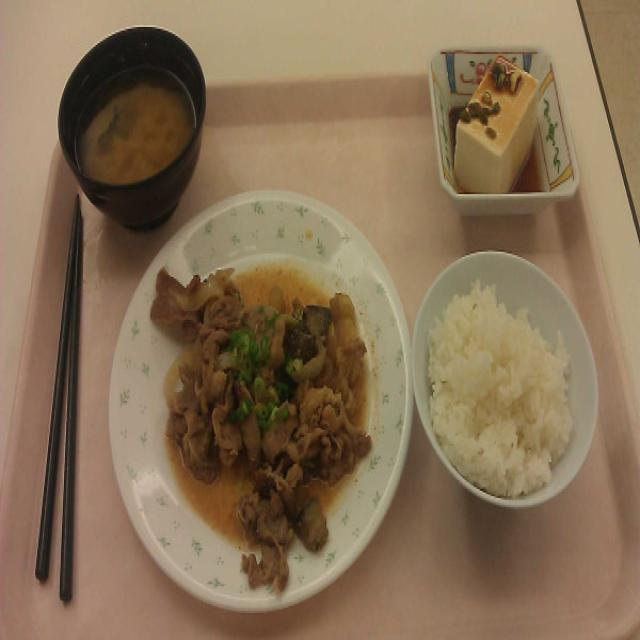Rice: (422, 272, 588, 502)
